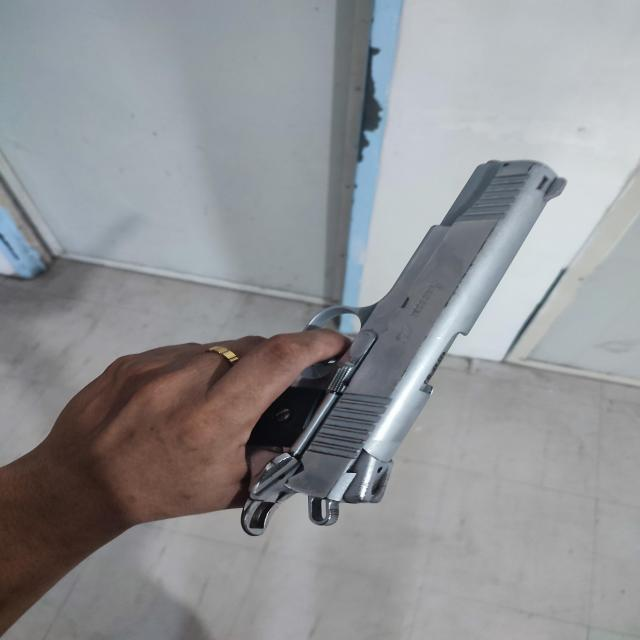pistol: (238, 160, 567, 538)
